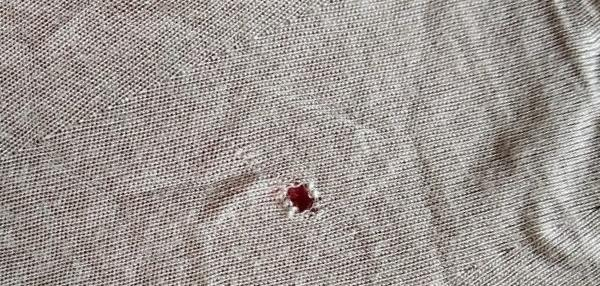hole: (279, 179, 326, 220)
